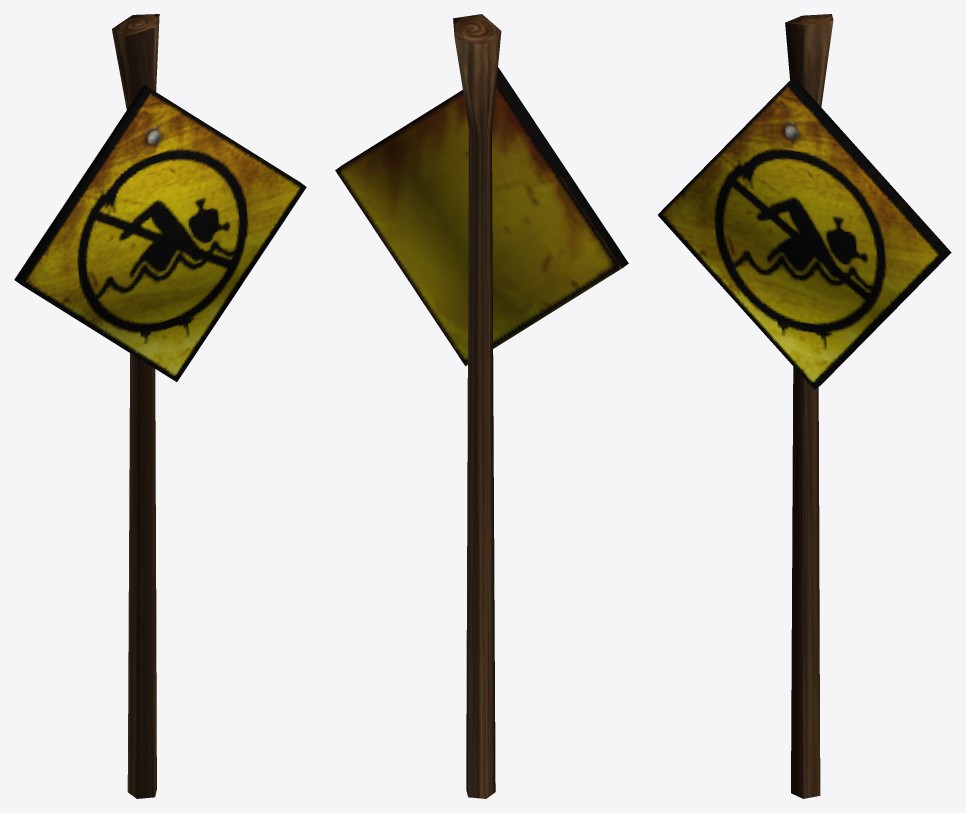
The model's file is sign_noswim.glb.
3 views of the same model, side by side, from view 1: azimuth 30°, elevation 25°; view 2: azimuth 150°, elevation 25°; view 3: azimuth 330°, elevation 25° (orthographic).
Visible parts, largest first — view 1: sign_noswim; view 2: sign_noswim; view 3: sign_noswim.
Part boxes in pixels (x1=…): sign_noswim: x1=14, y1=14, x2=306, y2=798; sign_noswim: x1=335, y1=14, x2=628, y2=798; sign_noswim: x1=658, y1=14, x2=951, y2=798.
Size of the model in its own units: 0.4034 by 1.04 by 0.0751.
1 material, 1 textured.
